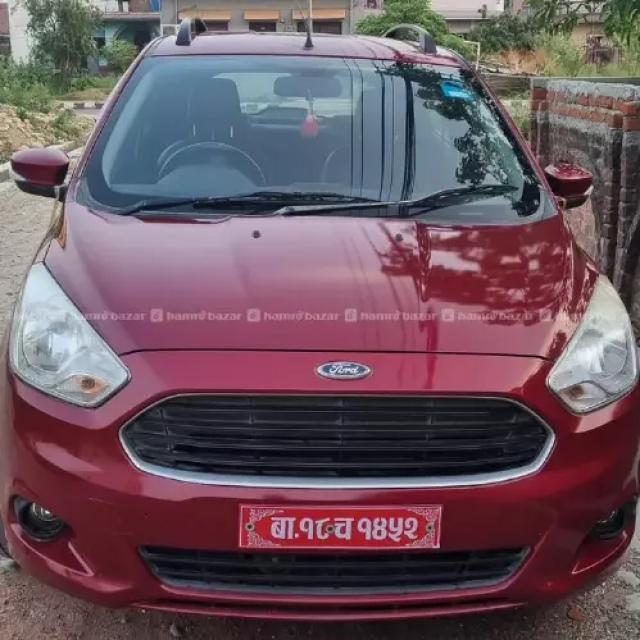License-plate: (233, 505, 447, 552)
